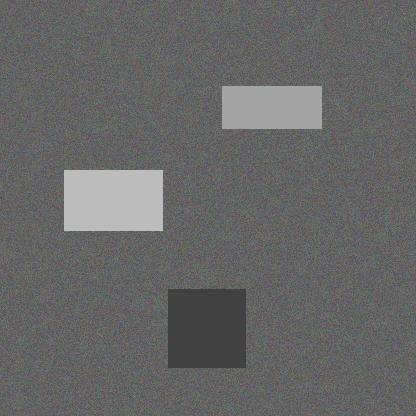empty: (259, 81, 315, 152)
occupied: (242, 151, 321, 231), (209, 94, 251, 138)
